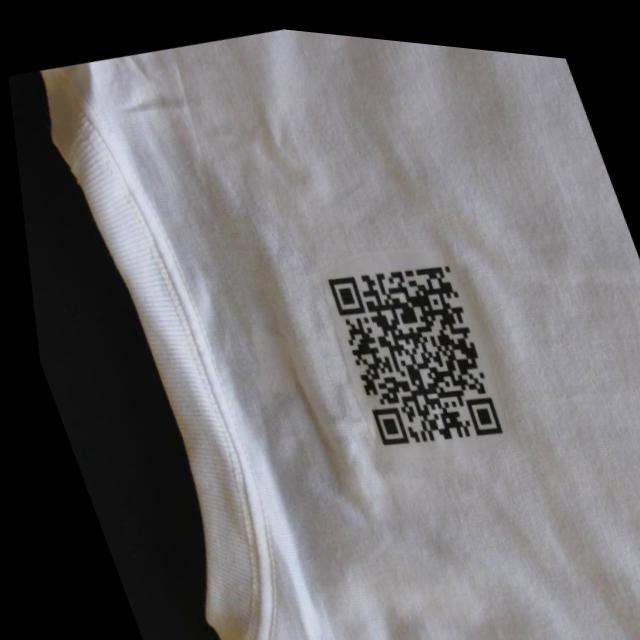qrcode: (315, 241, 503, 454)
